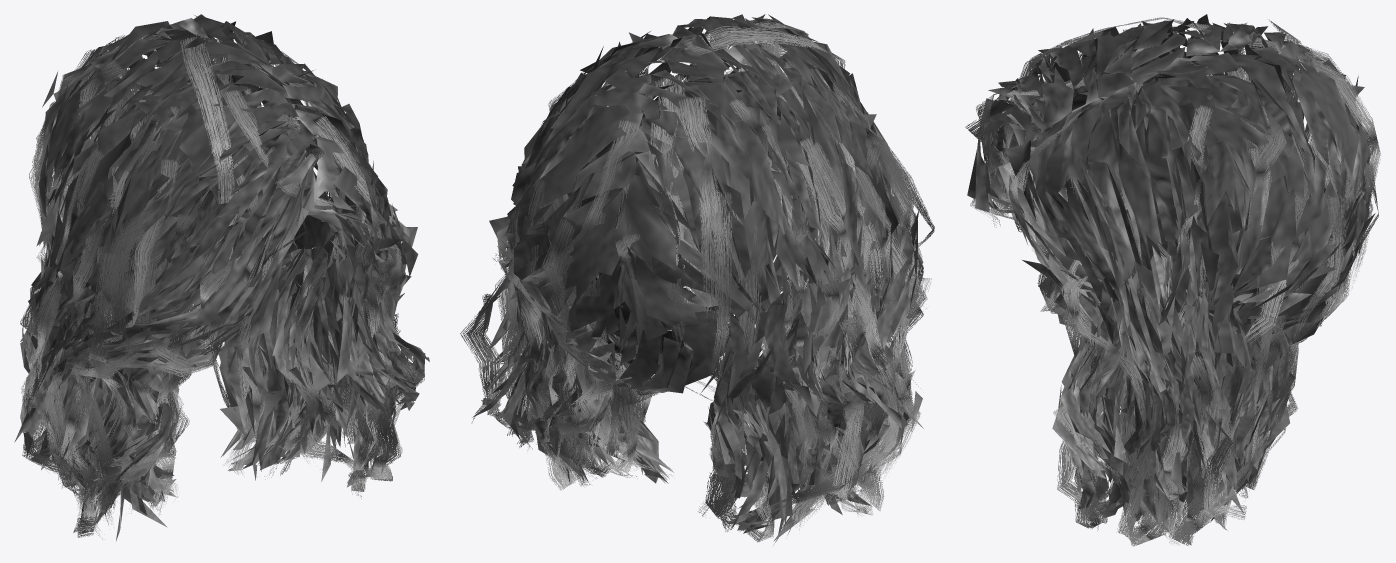
File: hair_waves.glb
3 views of the same model, side by side, from view 1: azimuth 30°, elevation 25°; view 2: azimuth 150°, elevation 25°; view 3: azimuth 270°, elevation 25° (orthographic). The views are drawn at different scales.
Visible parts, largest first — view 1: Mesh_0, haircards; view 2: Mesh_0, haircards; view 3: Mesh_0, haircards.
Boxes of the visible parts, x1,y1,x2,y2 form: Mesh_0: (14,14,429,540); haircards: (20,34,424,539); Mesh_0: (470,14,923,545); haircards: (460,17,934,542); Mesh_0: (967,14,1375,540); haircards: (965,17,1380,546).
Bounding box in the file's own units: 0.2407 × 0.2584 × 0.211.
Materials: 2 (2 with a texture image).
